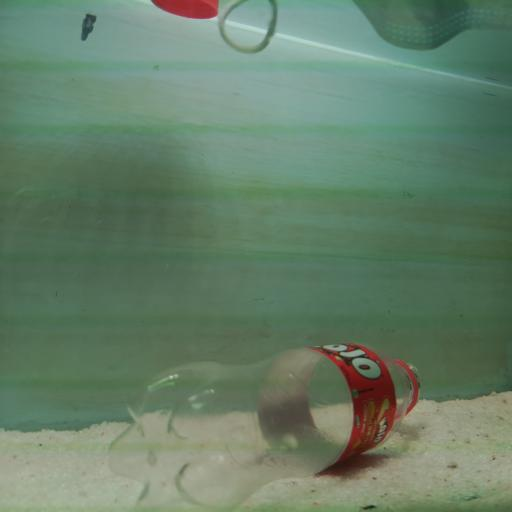bottle_cap: (150, 0, 220, 22)
mask: (222, 0, 512, 53)
plastic_bottle: (108, 341, 432, 510)
